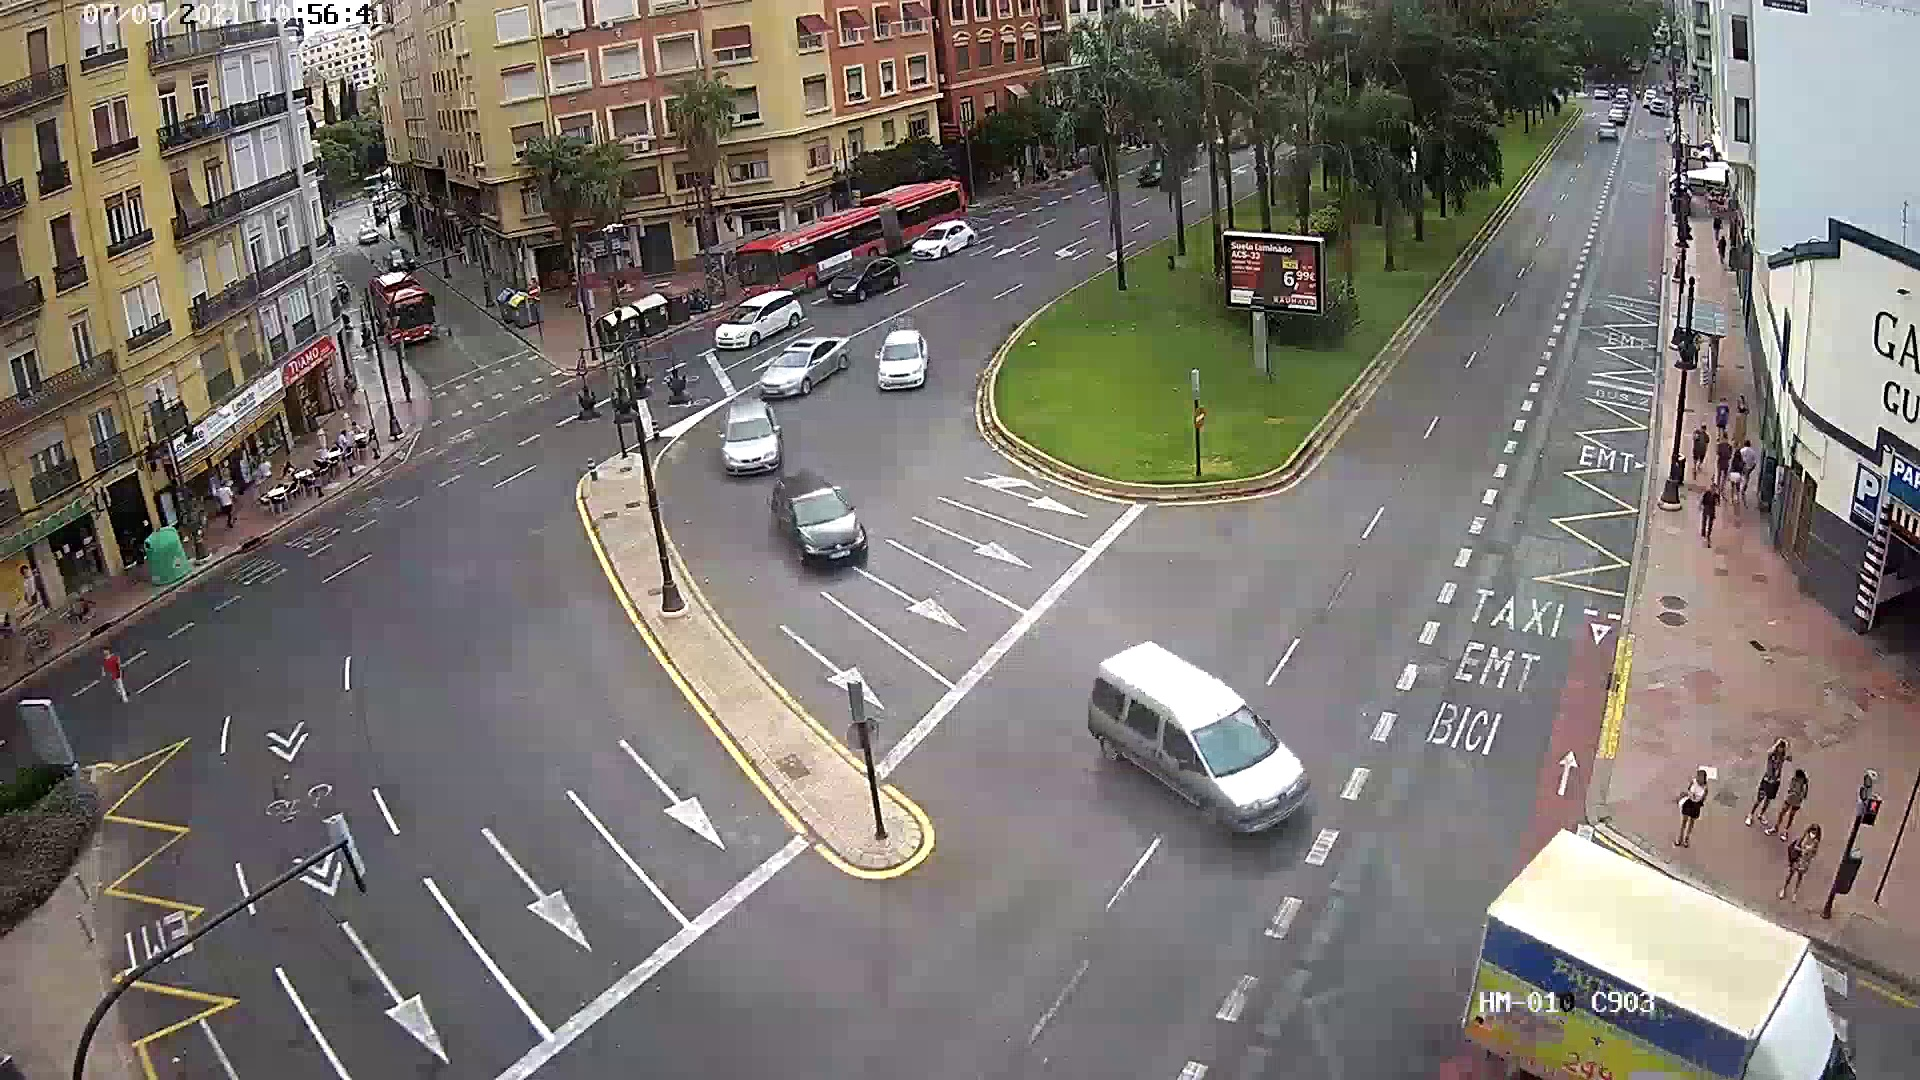Cars: (1088, 657, 1309, 836), (764, 469, 866, 578), (709, 404, 781, 479), (880, 324, 932, 406)
